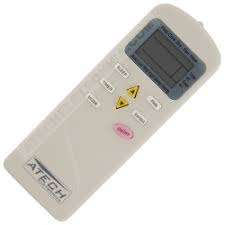remote control: (6, 3, 225, 225)
